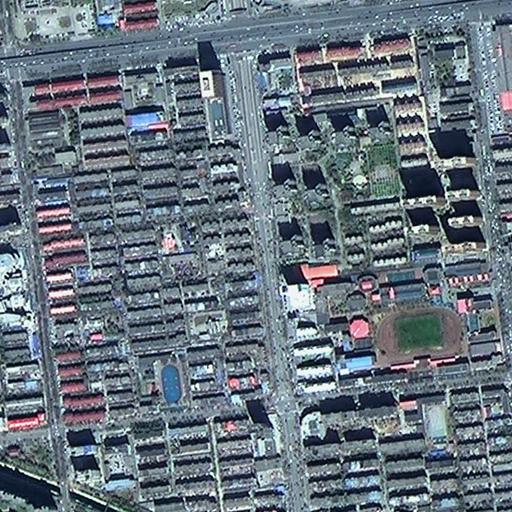school: (316, 266, 502, 370), (398, 391, 452, 454), (138, 355, 187, 411)
